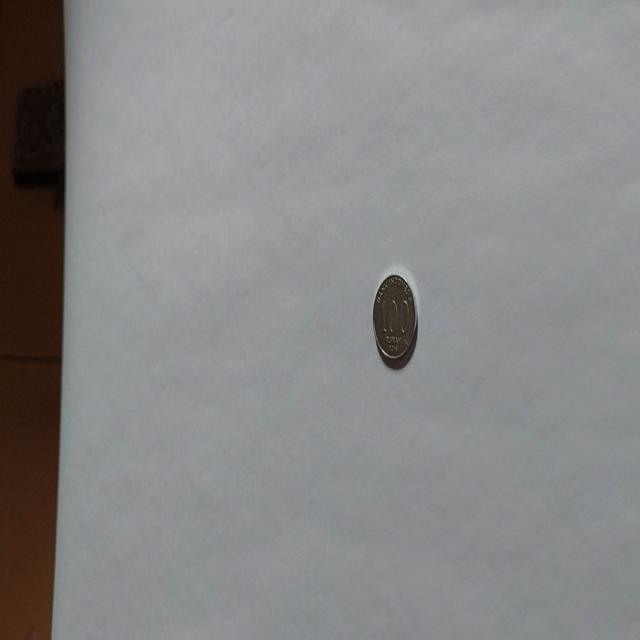seratus rupiah: (372, 272, 418, 368)
